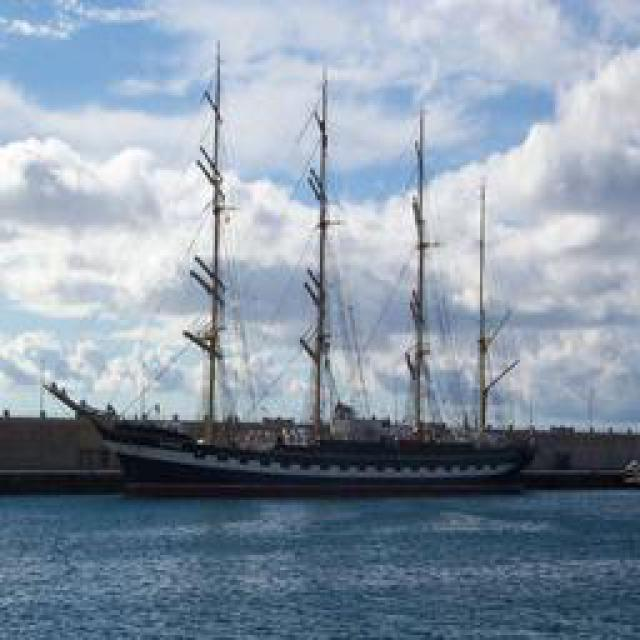Ship: (99, 417, 529, 497)
